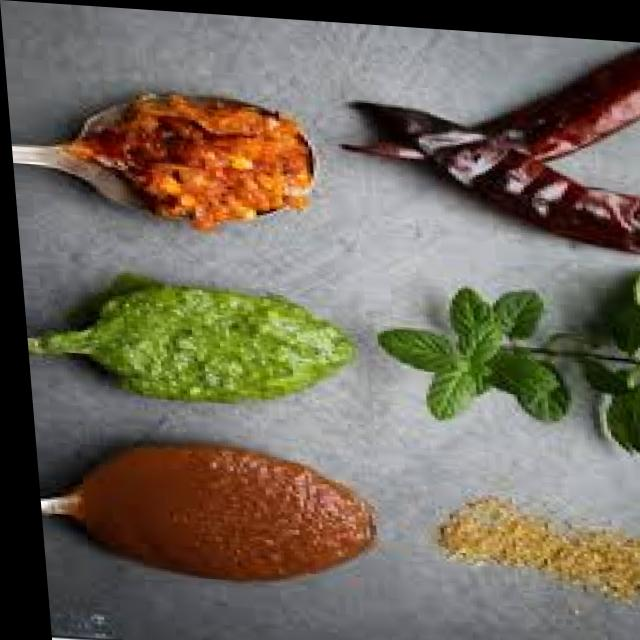GREEN CHUTNEY: (48, 282, 368, 407)
PICKLE: (25, 85, 325, 222)
PODI: (441, 494, 640, 606)
RED CHUTNEY: (78, 440, 389, 581)
